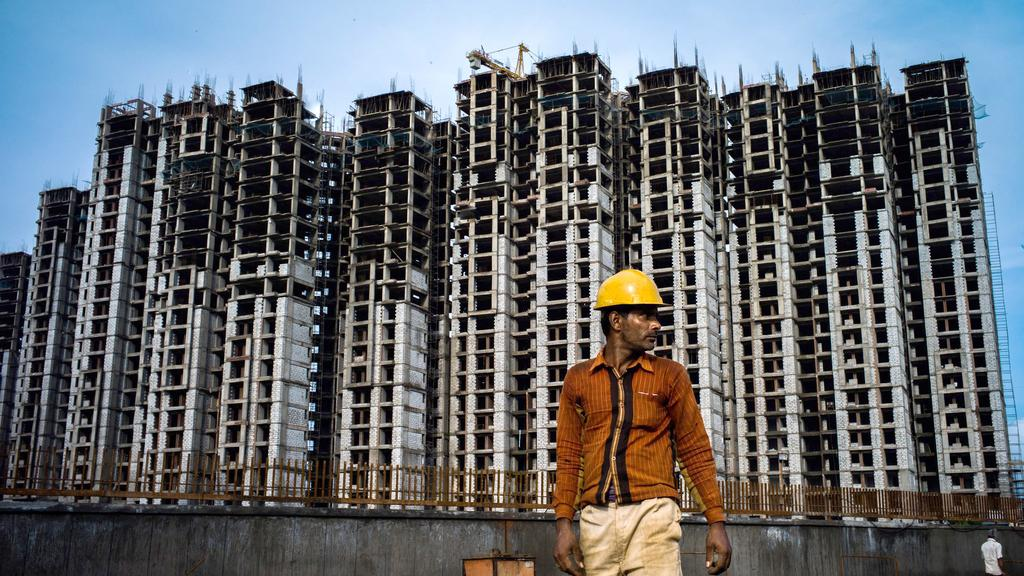NoJacket: (563, 273, 676, 504)
